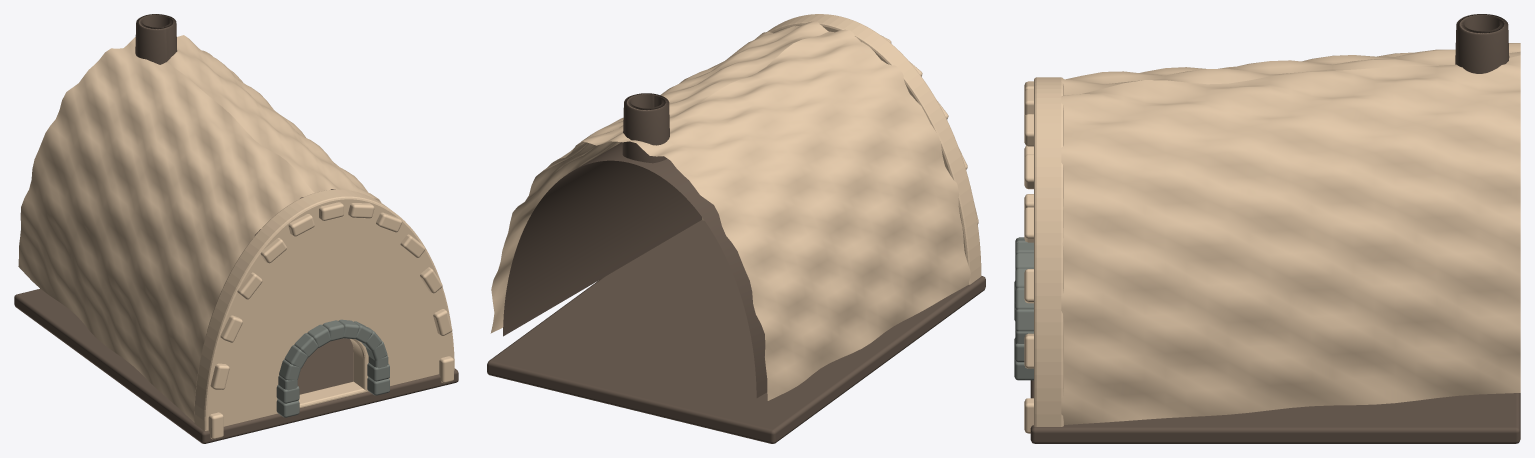
The model's file is kiln-vault-v2.glb.
3 renders of one model, left to right at view 1: azimuth 30°, elevation 25°; view 2: azimuth 150°, elevation 25°; view 3: azimuth 270°, elevation 25°, orthographic. The views are drawn at different scales.
Visible parts, largest first — view 1: Uneven earthen vault (×2), Thick earth facade with open firemouth, Earthen foundation, Open chimney; view 2: Uneven earthen vault (×2), Earthen foundation, Inner fired wall (×2), Thick earth facade with open firemouth, Open chimney; view 3: Uneven earthen vault (×2), Earthen foundation, Thick earth facade with open firemouth, Open chimney.
Part boxes in pixels (x1=…): Uneven earthen vault (×2): x1=18, y1=35, x2=381, y2=421; Thick earth facade with open firemouth: x1=194, y1=189, x2=454, y2=431; Earthen foundation: x1=14, y1=288, x2=458, y2=443; Open chimney: x1=135, y1=14, x2=177, y2=64; Uneven earthen vault (×2): x1=490, y1=21, x2=970, y2=400; Earthen foundation: x1=487, y1=220, x2=985, y2=443; Inner fired wall (×2): x1=503, y1=142, x2=767, y2=397; Thick earth facade with open firemouth: x1=702, y1=14, x2=981, y2=284; Open chimney: x1=622, y1=93, x2=669, y2=163; Uneven earthen vault (×2): x1=1061, y1=43, x2=1520, y2=424; Earthen foundation: x1=1030, y1=380, x2=1520, y2=443; Thick earth facade with open firemouth: x1=1034, y1=77, x2=1063, y2=426; Open chimney: x1=1455, y1=14, x2=1509, y2=73.
Bounding box in the file's own units: 2.5 × 2.46 × 3.31.
